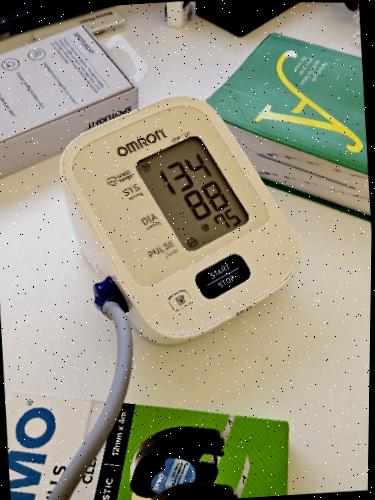bpm: (131, 125, 252, 258)
